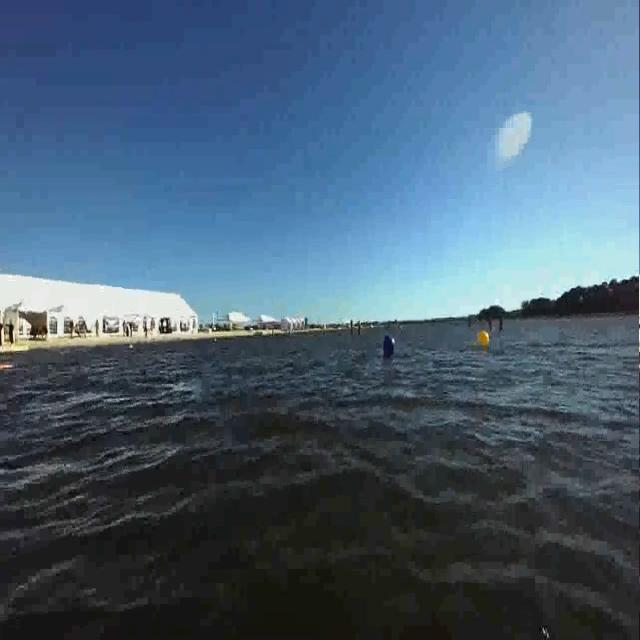blue-buoy: (380, 335, 393, 360)
yellow-buoy: (478, 330, 491, 349)
